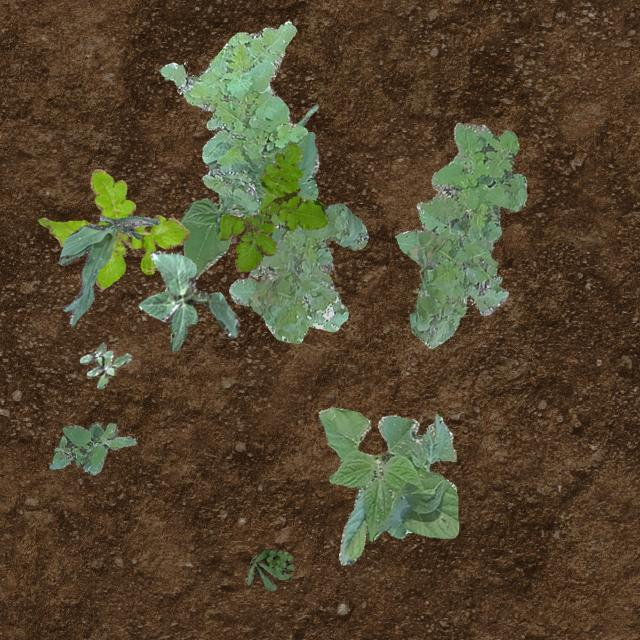crop: (318, 406, 458, 564), (180, 130, 318, 278), (56, 214, 158, 324), (138, 250, 238, 350), (262, 104, 316, 160)
weed: (394, 121, 526, 346), (160, 19, 306, 214), (228, 190, 368, 342), (37, 168, 189, 290), (218, 141, 326, 271), (48, 422, 136, 474), (78, 342, 130, 388), (244, 548, 294, 590)
